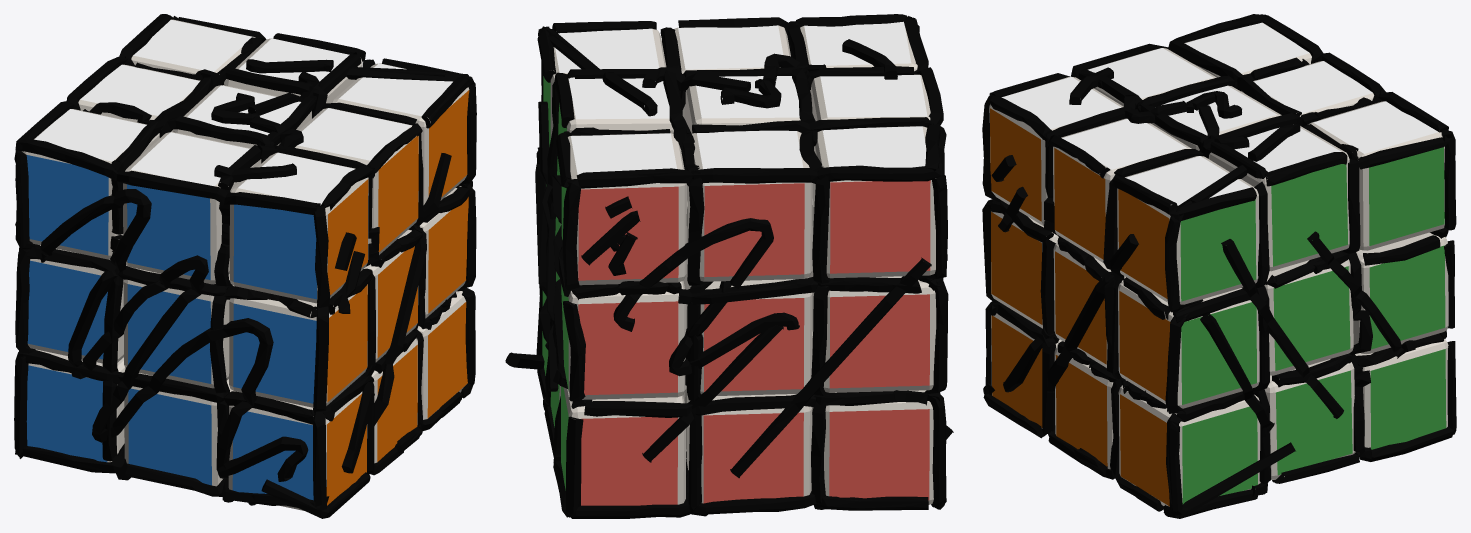
The model's file is rubik.glb.
3 renders of one model, left to right at view 1: azimuth 30°, elevation 25°; view 2: azimuth 150°, elevation 25°; view 3: azimuth 270°, elevation 25°, orthographic. The views are drawn at different scales.
Parts seen in each view (by area): view 1: Rubik, lines_rubik; view 2: Rubik, lines_rubik; view 3: Rubik, lines_rubik.
Boxes of the visible parts, x1,y1,x2,y2 form: Rubik: (22,19,469,510); lines_rubik: (14,14,476,518); Rubik: (542,21,936,505); lines_rubik: (505,14,953,518); Rubik: (989,22,1448,506); lines_rubik: (982,14,1456,518).
Bounding box in the file's own units: 0.2347 × 0.1951 × 0.2351.
